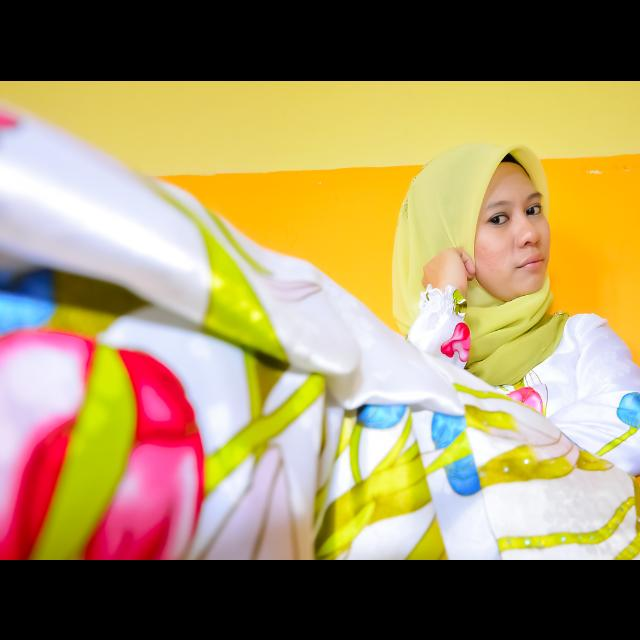Flower: (442, 320, 468, 366)
